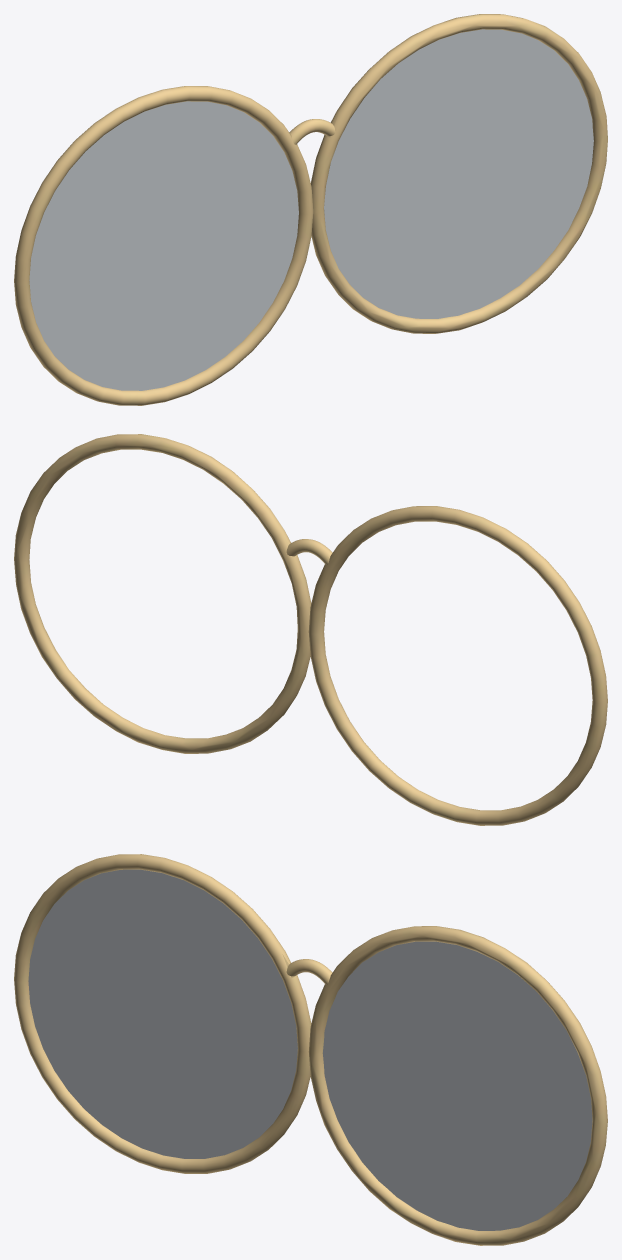
Rendered from wear-round-glasses.glb.
The picture shows the model from 3 angles, top to bottom: view 1: azimuth 30°, elevation 25°; view 2: azimuth 150°, elevation 25°; view 3: azimuth 330°, elevation 25°; orthographic projection.
Visible parts, largest first — view 1: round-glasses-lens, round-glasses; view 2: round-glasses; view 3: round-glasses-lens, round-glasses.
Part boxes in pixels (bbox=[...]): round-glasses-lens: bbox=[29, 29, 593, 390]; round-glasses: bbox=[14, 14, 607, 405]; round-glasses: bbox=[14, 434, 607, 825]; round-glasses-lens: bbox=[28, 869, 592, 1230]; round-glasses: bbox=[14, 854, 607, 1245].
Size of the model in its own units: 0.9209 by 0.4627 by 0.0211.
2 materials, 1 textured.
